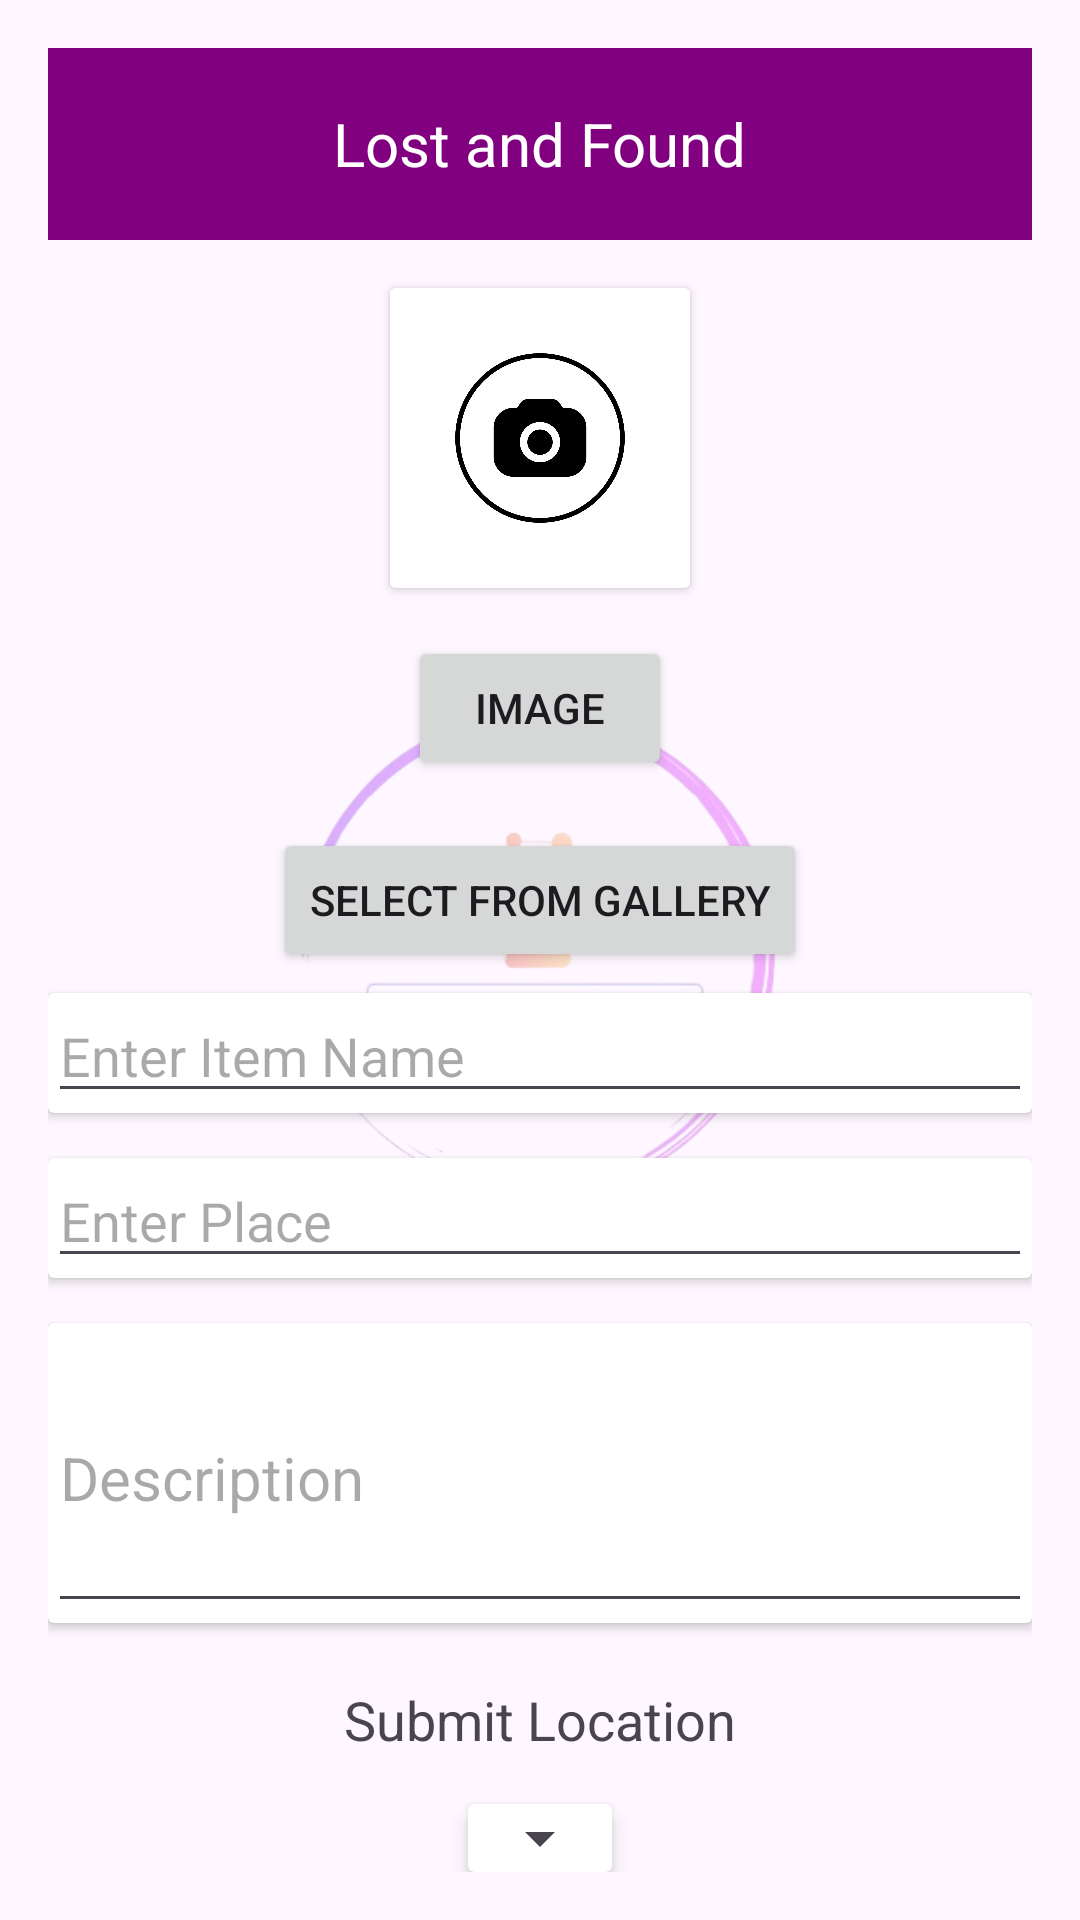

Where icons sit on this 1080*1920 app screen, as (x1,y1,x2,y2):
capture: (390,288,690,588)
